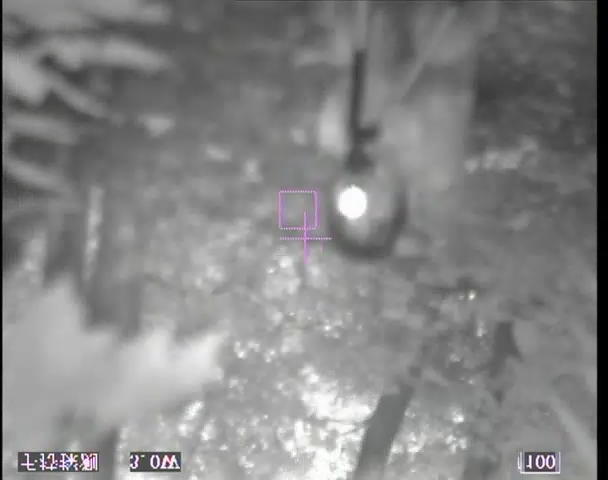my: (336, 184, 368, 218)
